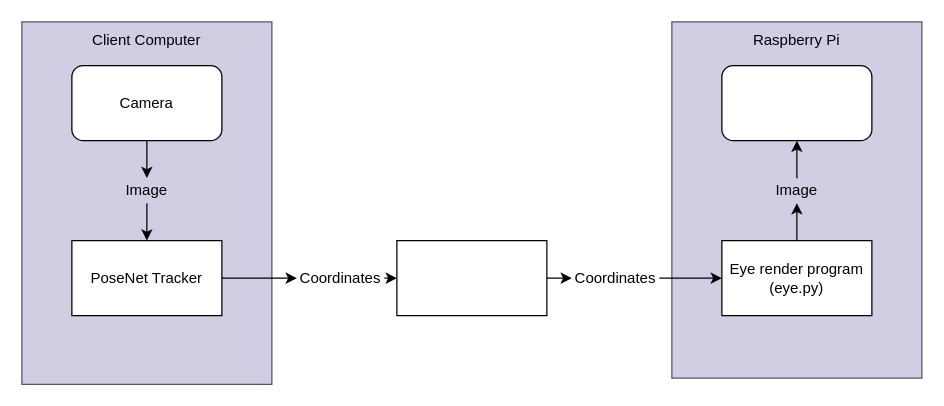
This 944x406 diagram has some shape labels left out. The shapes that lost their labels are listed below. From the top down, each one's box as (x1, y1, x2, y2) in pixels, then its label:
(721, 64, 872, 141): Display
(396, 239, 547, 316): Web Socket Relay
